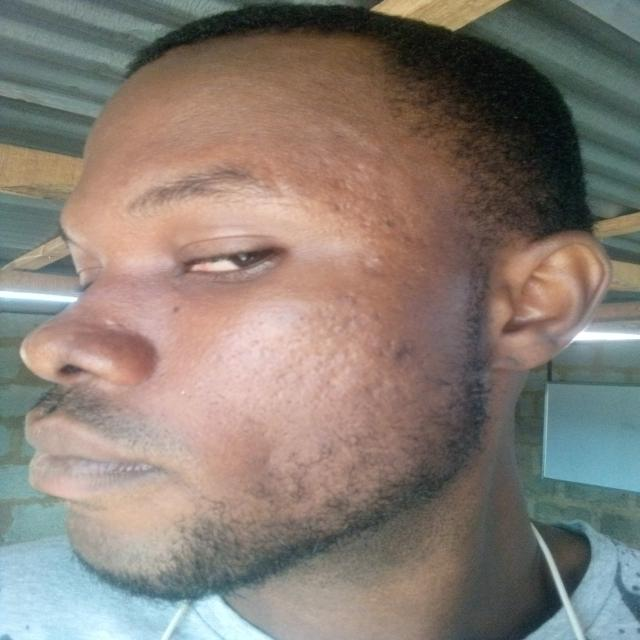Acne: (384, 336, 420, 364), (378, 212, 402, 234)
Englarged-Pores: (245, 300, 396, 410), (336, 162, 392, 242), (330, 248, 401, 299)
